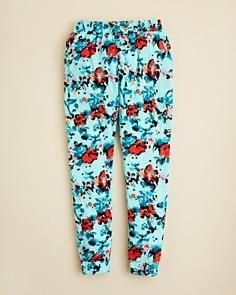C_W_pants: (61, 17, 176, 279)
